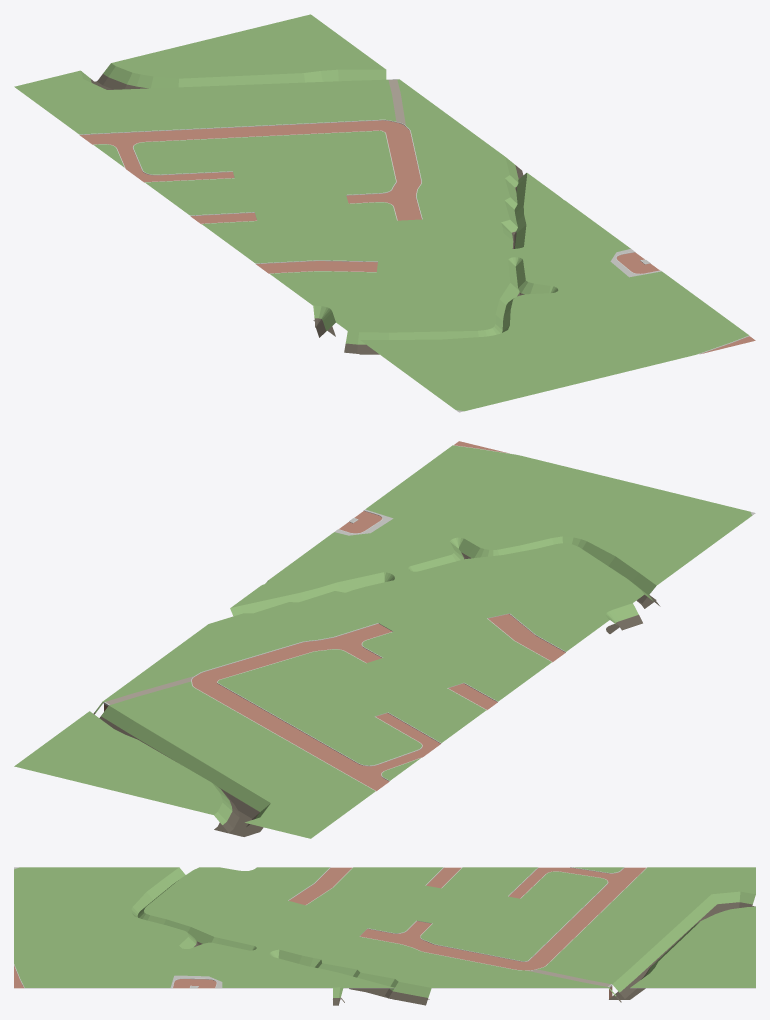
Rendered from ground_13_6.glb.
3 renders of one model, top to bottom at view 1: azimuth 30°, elevation 25°; view 2: azimuth 150°, elevation 25°; view 3: azimuth 270°, elevation 25°, orthographic. The views are drawn at different scales.
Parts seen in each view (by area): view 1: ground_13_6; view 2: ground_13_6; view 3: ground_13_6.
Part boxes in pixels (box(x1,y1,x2,y2)): ground_13_6: box(14, 14, 755, 412); ground_13_6: box(14, 441, 755, 838); ground_13_6: box(14, 867, 755, 1005).
Size of the model in its own units: 84.1 by 3.68 by 200.
